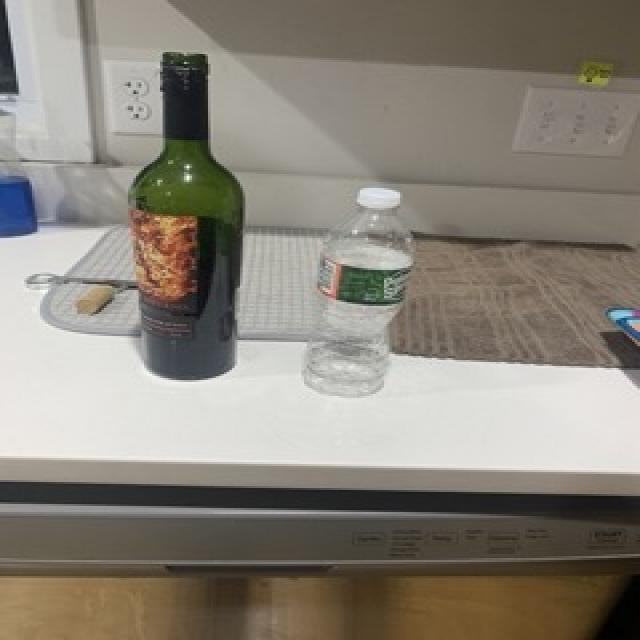water_bottle: (302, 185, 418, 402)
